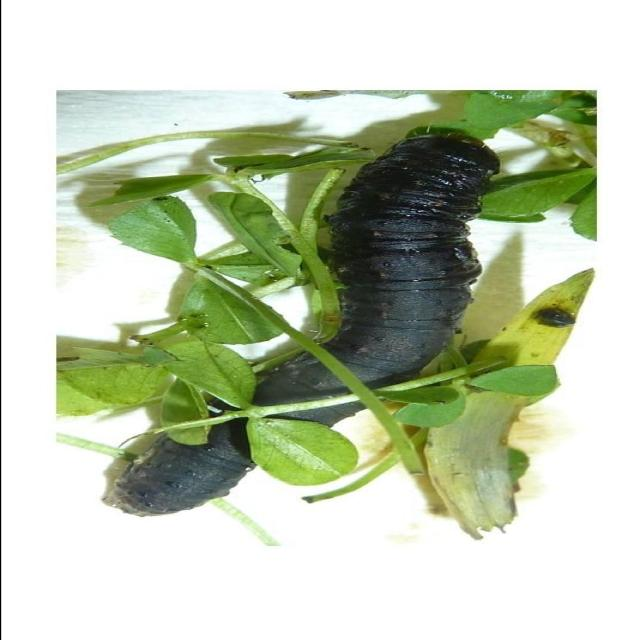black cutworm: (89, 129, 515, 522)
